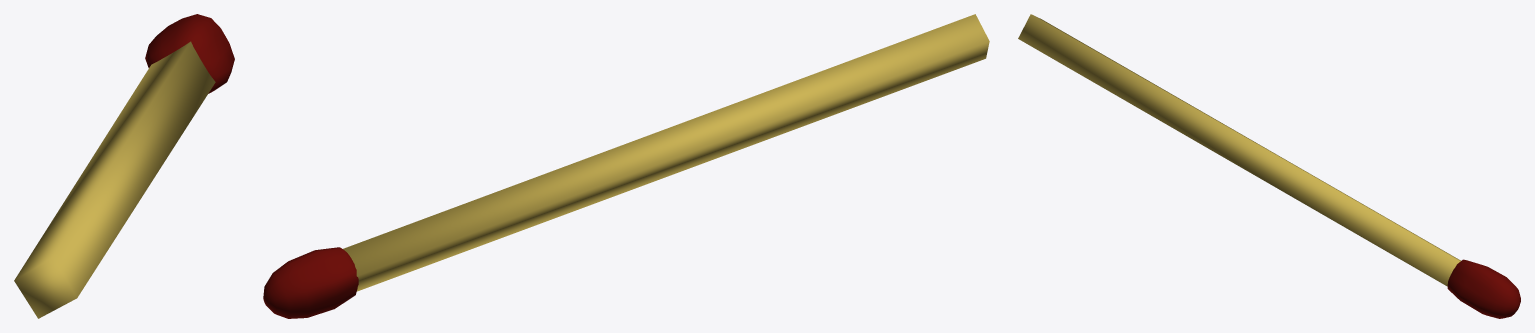
3 renders of one model, left to right at view 1: azimuth 30°, elevation 25°; view 2: azimuth 150°, elevation 25°; view 3: azimuth 270°, elevation 25°, orthographic. The views are drawn at different scales.
Visible parts, largest first — view 1: Sphere.005; view 2: Sphere.005; view 3: Sphere.005.
Boxes of the visible parts, x1=… form: Sphere.005: x1=14, y1=14, x2=234, y2=318; Sphere.005: x1=263, y1=14, x2=989, y2=318; Sphere.005: x1=1018, y1=14, x2=1520, y2=318.
Bounding box in the file's own units: 0.4038 × 0.1646 × 0.5.
